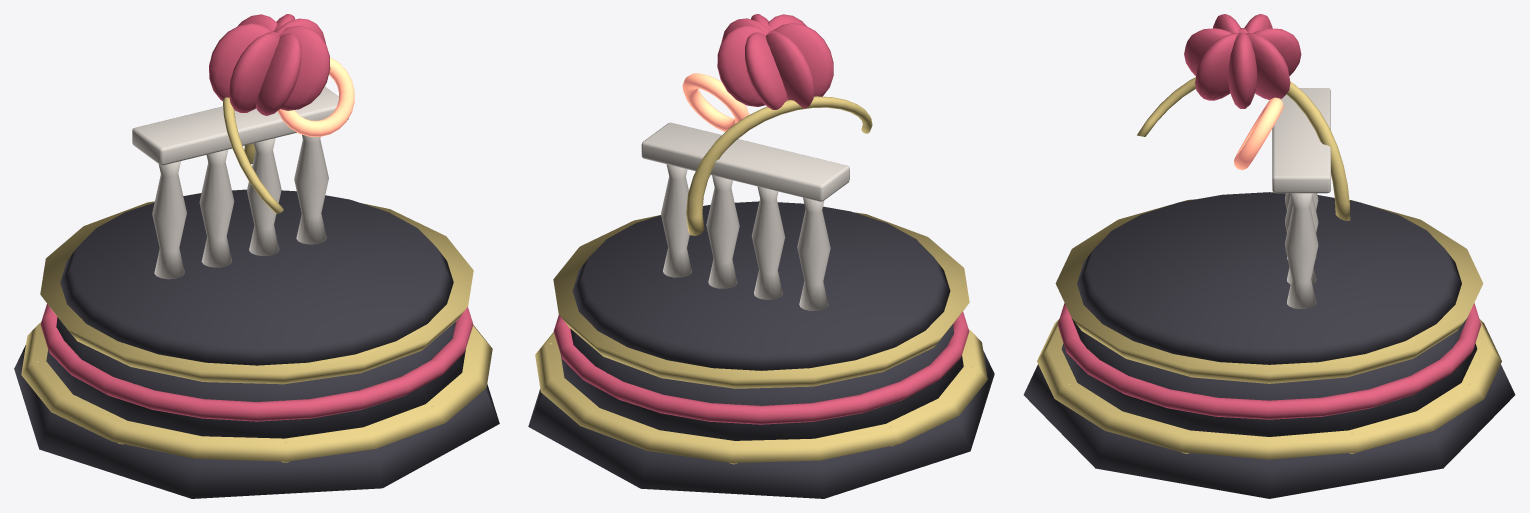
The picture shows the model from 3 angles, left to right: view 1: azimuth 30°, elevation 25°; view 2: azimuth 150°, elevation 25°; view 3: azimuth 270°, elevation 25°; orthographic projection. The views are drawn at different scales.
Parts seen in each view (by area): view 1: MO-001_Romeo; view 2: MO-001_Romeo; view 3: MO-001_Romeo.
Boxes of the visible parts, x1,y1,x2,y2 form: MO-001_Romeo: [14, 14, 499, 498]; MO-001_Romeo: [528, 14, 994, 498]; MO-001_Romeo: [1023, 14, 1515, 498].
Size of the model in its own units: 0.92 by 0.7676 by 0.92.
